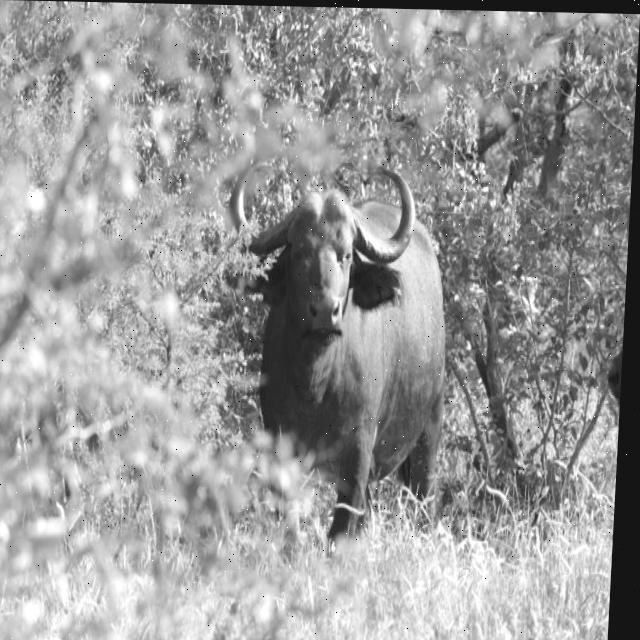Buffalo: (211, 164, 460, 557)
